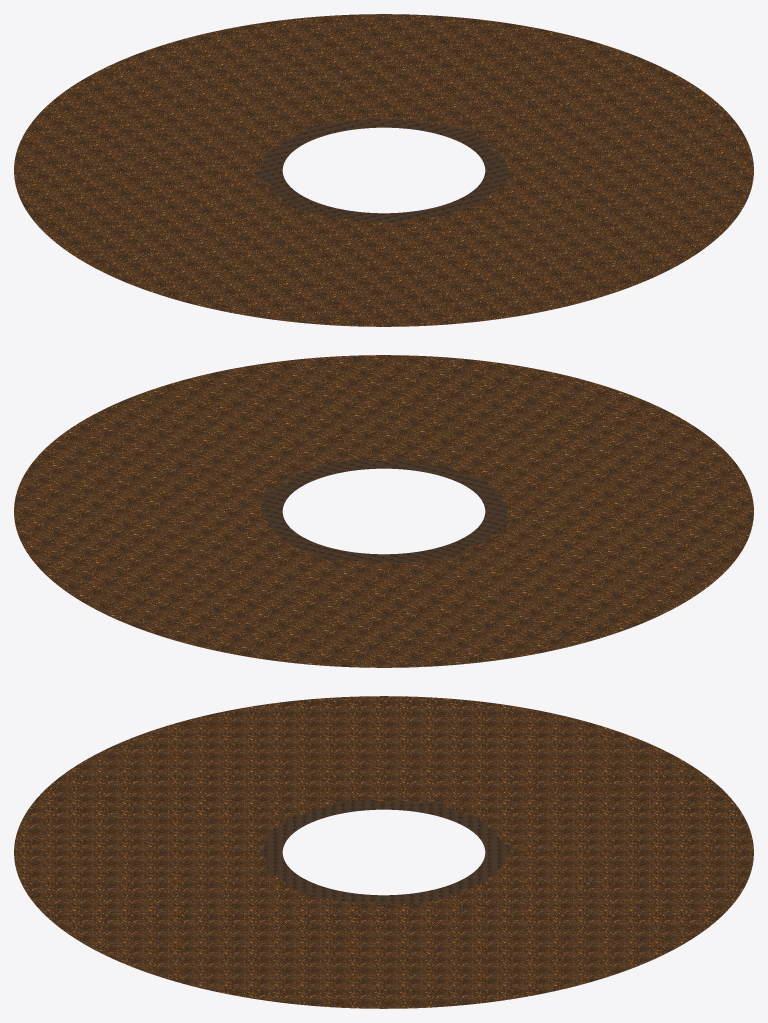
Rendered from mwm_lake.glb.
The picture shows the model from 3 angles, top to bottom: view 1: azimuth 30°, elevation 25°; view 2: azimuth 150°, elevation 25°; view 3: azimuth 270°, elevation 25°; orthographic projection.
Size of the model in its own units: 760 by 0.06 by 760.
2 materials, 2 textured.
